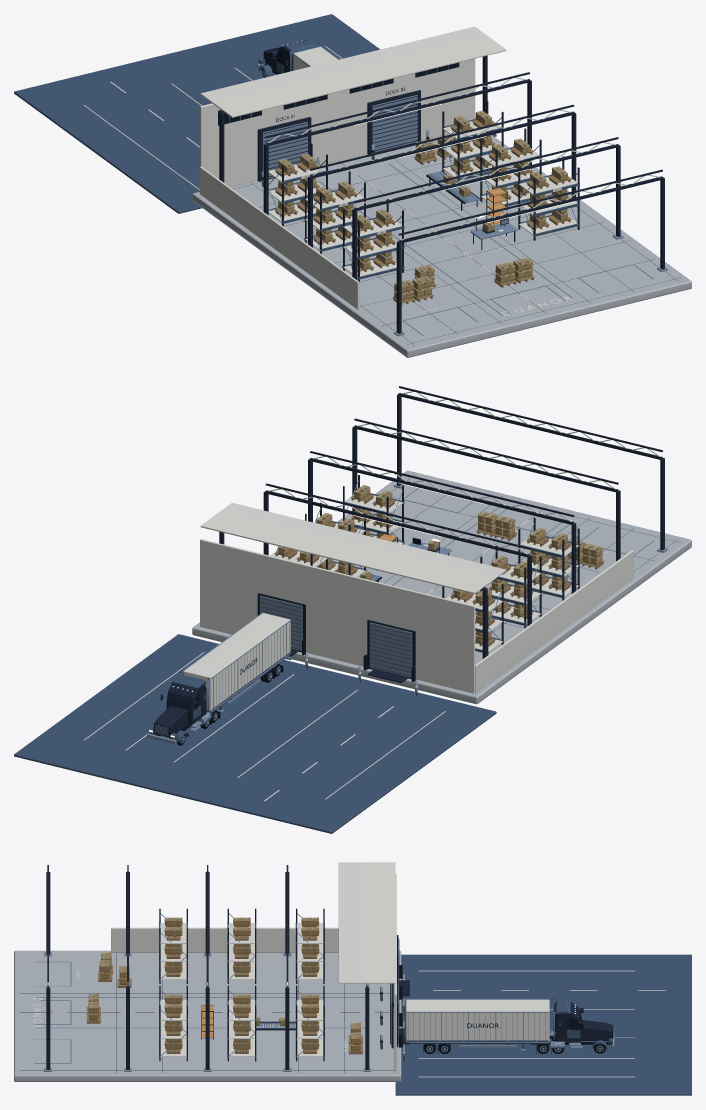
Rendered from warehouse-journey.glb.
3 renders of one model, top to bottom at view 1: azimuth 30°, elevation 25°; view 2: azimuth 150°, elevation 25°; view 3: azimuth 270°, elevation 25°, orthographic. The views are drawn at different scales.
Visible parts, largest first — view 1: Concrete | silver aggregate, Structural silver, Exterior asphalt, Powder coated navy, cardboard_box_01, Brushed aluminum, Pallet oak, Rack beam slate, Safety blue gray, Rubber and screens, Neutral shipping labels, Truck · silver trailer; view 2: Exterior asphalt, Structural silver, Concrete | silver aggregate, Powder coated navy, cardboard_box_01, Truck · silver trailer, Brushed aluminum, Pallet oak, Truck · brushed alloy, Truck · midnight enamel, Rack beam slate, Neutral shipping labels (+2 smaller); view 3: Concrete | silver aggregate, Exterior asphalt, Structural silver, Powder coated navy, Truck · silver trailer, cardboard_box_01, Truck · brushed alloy, Pallet oak, Neutral shipping labels, Truck · midnight enamel, Safety blue gray, Brushed aluminum (+4 smaller).
Boxes of the visible parts, bbox=[...] form: Concrete | silver aggregate: bbox=[192, 134, 691, 357]; Structural silver: bbox=[199, 26, 660, 309]; Exterior asphalt: bbox=[14, 14, 496, 213]; Powder coated navy: bbox=[219, 55, 680, 345]; cardboard_box_01: bbox=[278, 110, 567, 300]; Brushed aluminum: bbox=[229, 65, 667, 336]; Pallet oak: bbox=[274, 120, 571, 305]; Rack beam slate: bbox=[268, 119, 579, 279]; Safety blue gray: bbox=[261, 130, 653, 335]; Rubber and screens: bbox=[218, 62, 556, 233]; Neutral shipping labels: bbox=[83, 46, 572, 315]; Truck · silver trailer: bbox=[293, 46, 338, 70]; Exterior asphalt: bbox=[14, 634, 496, 833]; Structural silver: bbox=[200, 391, 662, 693]; Concrete | silver aggregate: bbox=[192, 470, 691, 704]; Powder coated navy: bbox=[219, 386, 678, 683]; cardboard_box_01: bbox=[278, 485, 602, 644]; Truck · silver trailer: bbox=[183, 613, 290, 710]; Brushed aluminum: bbox=[259, 480, 667, 677]; Pallet oak: bbox=[274, 494, 604, 646]; Truck · brushed alloy: bbox=[147, 612, 291, 744]; Truck · midnight enamel: bbox=[153, 658, 257, 737]; Rack beam slate: bbox=[327, 493, 579, 653]; Neutral shipping labels: bbox=[83, 493, 614, 801]; Concrete | silver aggregate: bbox=[14, 950, 401, 1081]; Exterior asphalt: bbox=[395, 954, 691, 1095]; Structural silver: bbox=[47, 862, 404, 1072]; Powder coated navy: bbox=[20, 865, 409, 1072]; Truck · silver trailer: bbox=[406, 999, 549, 1041]; cardboard_box_01: bbox=[88, 917, 360, 1051]; Truck · brushed alloy: bbox=[403, 999, 614, 1052]; Pallet oak: bbox=[86, 926, 362, 1054]; Neutral shipping labels: bbox=[33, 930, 665, 1077]; Truck · midnight enamel: bbox=[467, 1002, 612, 1041]; Safety blue gray: bbox=[34, 961, 404, 1063]; Brushed aluminum: bbox=[44, 913, 398, 1071].
Bounding box in the file's own units: 29 × 10.06 × 59.5.
21 materials, 2 textured.
